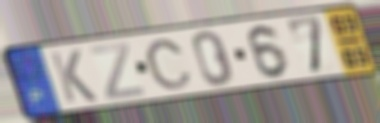0: (191, 28, 235, 89)
6: (246, 23, 291, 80)
7: (283, 13, 326, 77)
C: (143, 38, 195, 91)
K: (47, 48, 100, 105)
Z: (87, 40, 147, 102)
